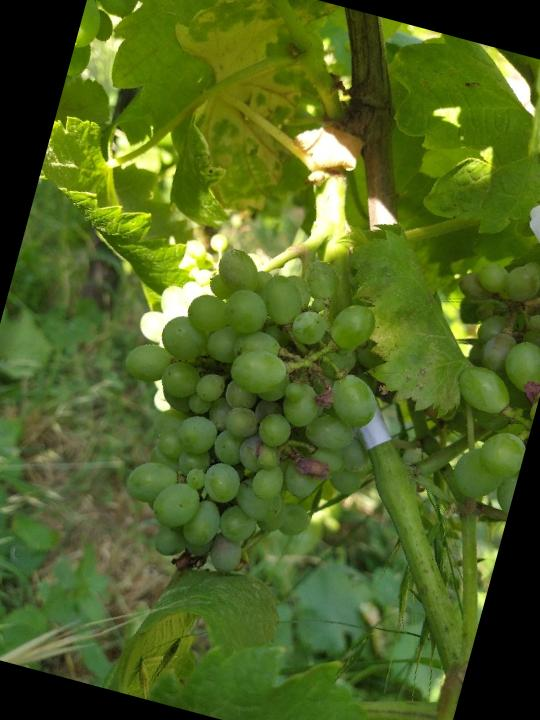grape: (74, 215, 416, 609)
